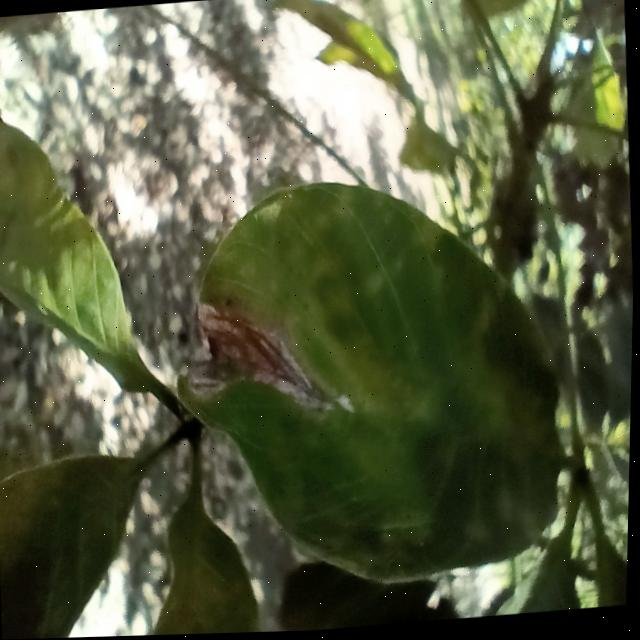Leaf-Blight: (183, 292, 323, 414)
